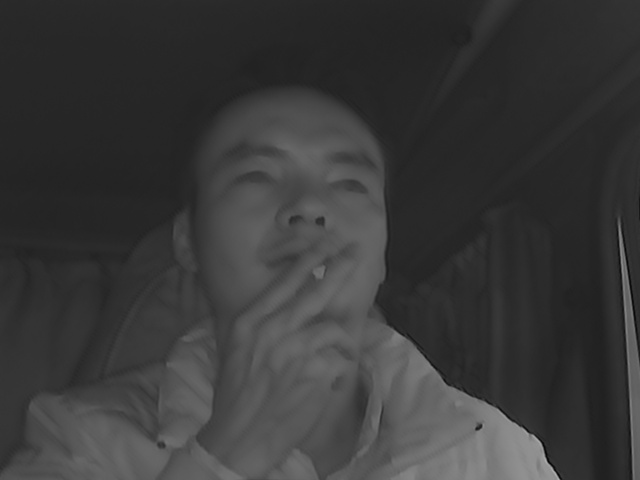hand: (239, 241, 373, 398)
